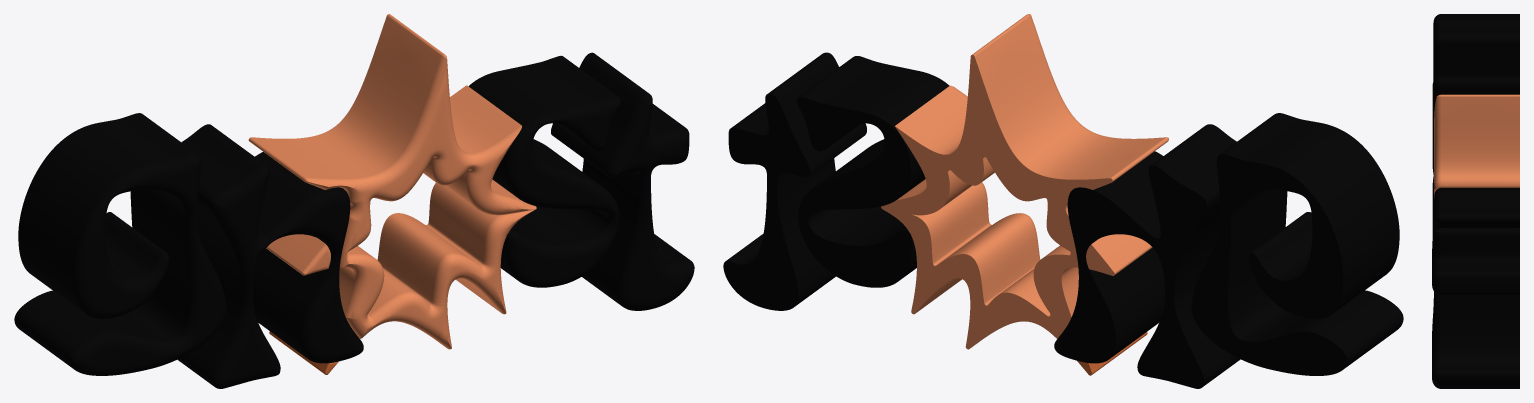
Rendered from ghost.glb.
3 renders of one model, left to right at view 1: azimuth 30°, elevation 25°; view 2: azimuth 150°, elevation 25°; view 3: azimuth 270°, elevation 25°, orthographic. The views are drawn at different scales.
Parts seen in each view (by area): view 1: 89c0e3ef-c265-49b2-9cf1-53b307f6b302; view 2: 89c0e3ef-c265-49b2-9cf1-53b307f6b302; view 3: 89c0e3ef-c265-49b2-9cf1-53b307f6b302.
Boxes of the visible parts, box(x1,y1,x2,y2) form: 89c0e3ef-c265-49b2-9cf1-53b307f6b302: box(14, 14, 694, 388); 89c0e3ef-c265-49b2-9cf1-53b307f6b302: box(723, 14, 1403, 388); 89c0e3ef-c265-49b2-9cf1-53b307f6b302: box(1432, 14, 1519, 388).
Bounding box in the file's own units: 0.7055 × 0.3289 × 0.1204.
